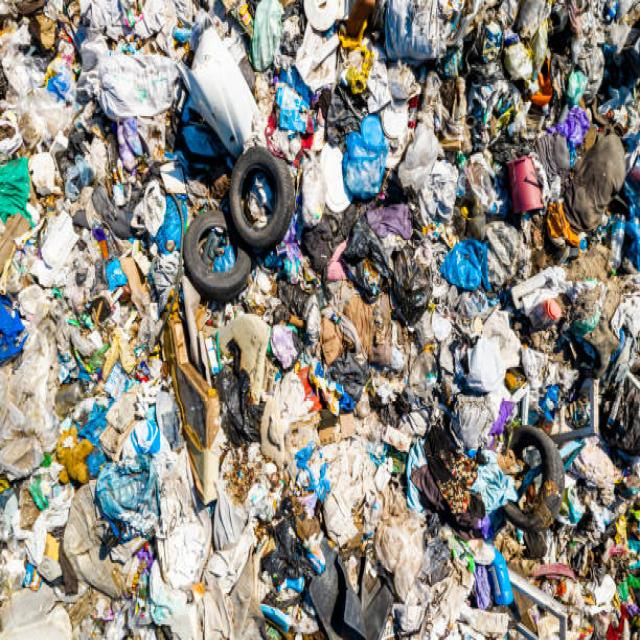trash: (28, 14, 592, 563)
